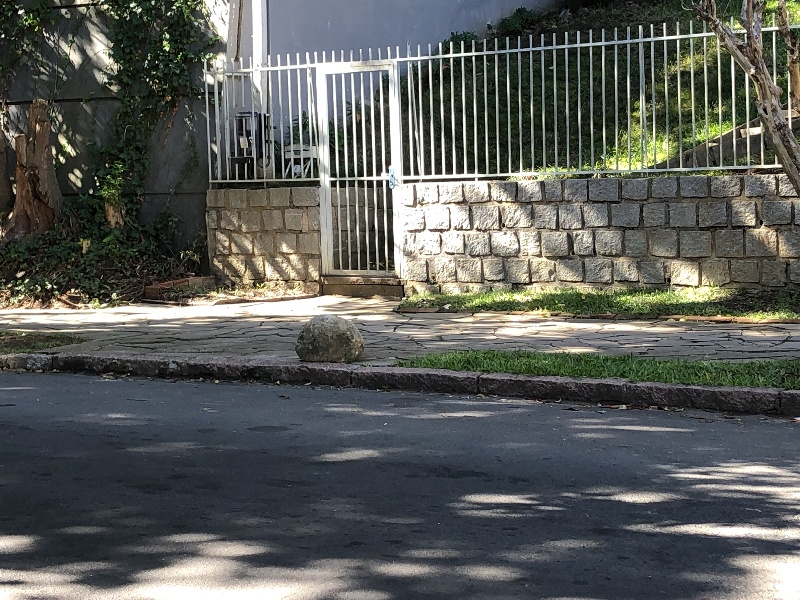v7: (6, 318, 798, 441)
